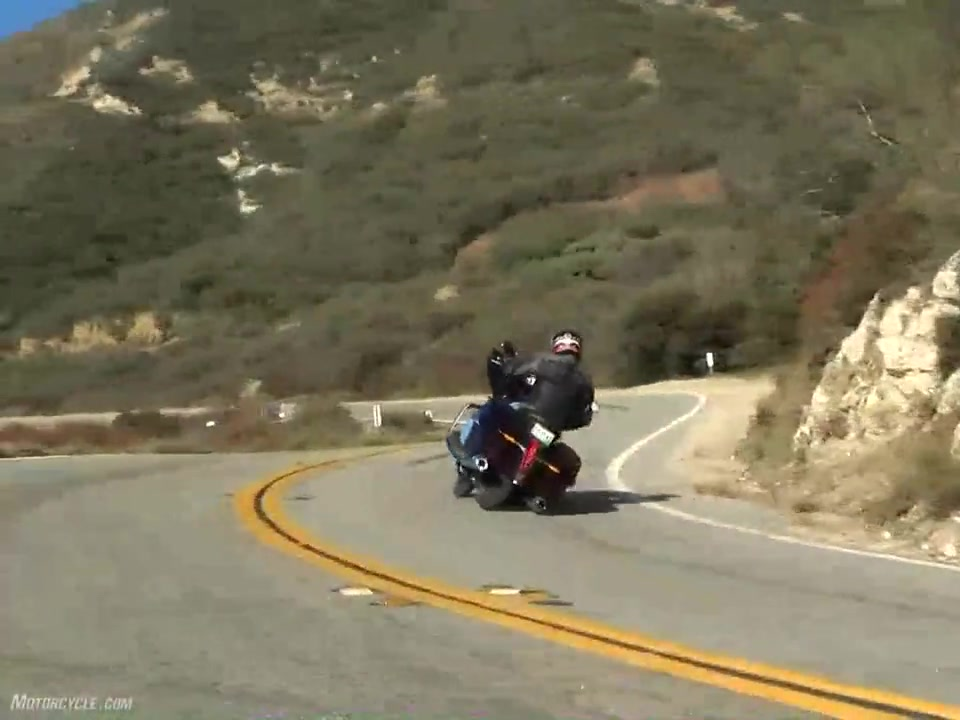motorbike: (448, 339, 584, 513)
